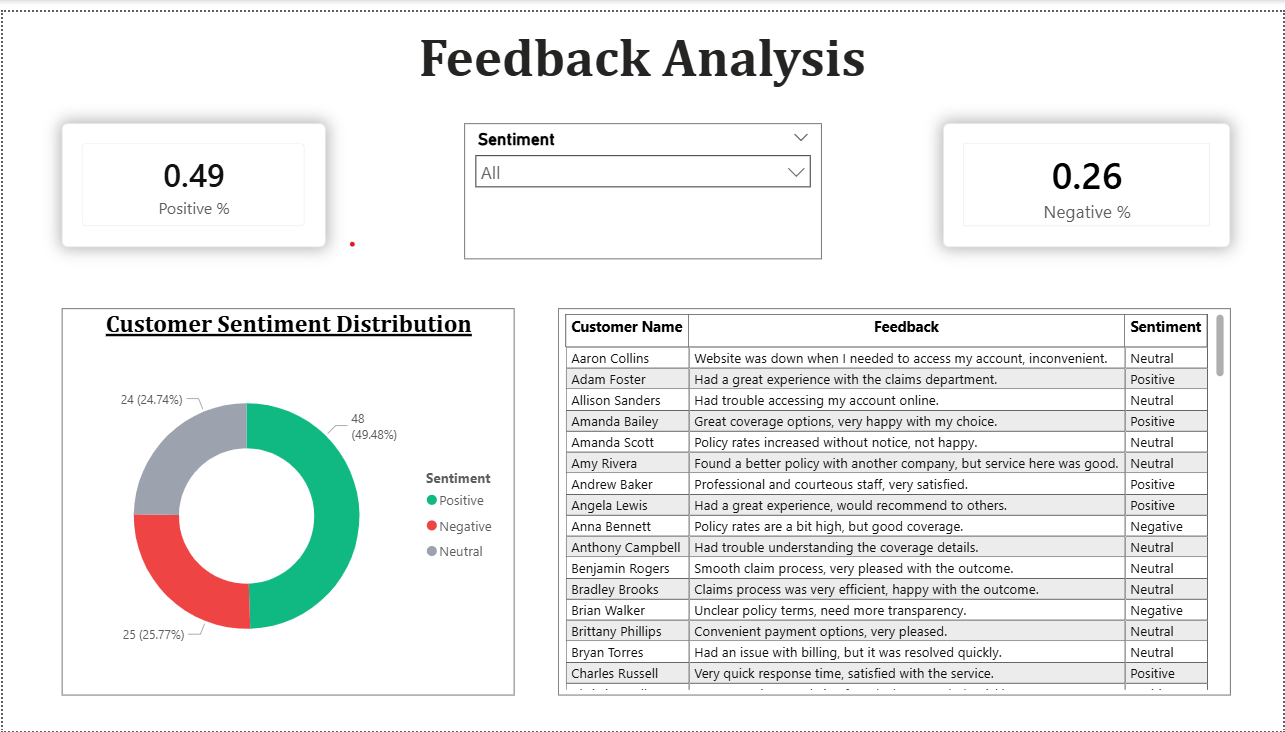

The page's visual inventory and layout, read from the dashboard file:
{"tool":"powerbi","page":{"name":"Customer Sentiment Analysis","canvas":[1280,720],"ordinal":2},"visuals":[{"type":"cardVisual","fields":{"Data":["Customer Feedback.Positive %"]},"box":[58.8,111.2,263.8,123.8],"z":0},{"type":"cardVisual","fields":{"Data":["Customer Feedback.Negative %"]},"box":[940,111.2,287.5,123.8],"z":1000},{"type":"textbox","box":[370,8.8,538.8,92.5],"z":2000},{"type":"donutChart","title":"Customer Sentiment Distribution","fields":{"Category":["Customer Feedback.Sentiment"],"Y":["CountNonNull(Customer Feedback.Sentiment)"]},"box":[58.8,296.2,452.5,387.5],"z":3000},{"type":"slicer","fields":{"Values":["Customer Feedback.Sentiment"]},"box":[461.2,111.2,357.5,136.2],"z":4000},{"type":"tableEx","fields":{"Values":["Customer Feedback.Customer Name","Customer Feedback.Feedback","Customer Feedback.Sentiment"]},"box":[555,296.2,672.5,387.5],"z":5000}]}

Visuals, with their boxes in screenshot pixels (x1, y1, x2, y2), scaled from the page's 1280x720 canvas onto the 1285x732 screenshot:
cardVisual - Customer Feedback.Positive %: rect(59, 113, 324, 239)
cardVisual - Customer Feedback.Negative %: rect(944, 113, 1232, 239)
textbox: rect(371, 9, 912, 103)
"Customer Sentiment Distribution" donutChart: rect(59, 301, 513, 695)
slicer - Customer Feedback.Sentiment: rect(463, 113, 822, 252)
tableEx - Customer Feedback.Customer Name x Customer Feedback.Feedback: rect(557, 301, 1232, 695)
